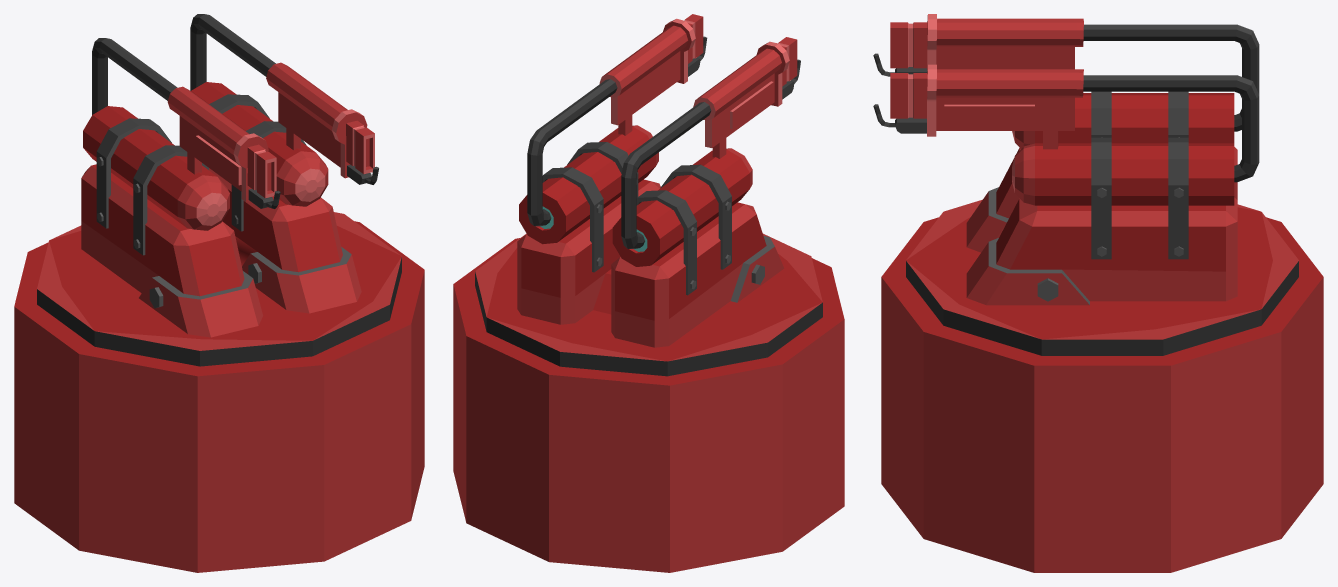
The model's file is Red Turret.fbx.
The picture shows the model from 3 angles, left to right: view 1: azimuth 30°, elevation 25°; view 2: azimuth 150°, elevation 25°; view 3: azimuth 270°, elevation 25°; orthographic projection. The views are drawn at different scales.
Parts seen in each view (by area): view 1: tower_napalm_red_1.001, top_napalm_red_1.001; view 2: tower_napalm_red_1.001, top_napalm_red_1.001; view 3: tower_napalm_red_1.001, top_napalm_red_1.001.
Part boxes in pixels (x1,y1,x2,y2): tower_napalm_red_1.001: (14, 212, 424, 572); top_napalm_red_1.001: (81, 14, 378, 337); tower_napalm_red_1.001: (453, 233, 844, 572); top_napalm_red_1.001: (517, 14, 800, 347); tower_napalm_red_1.001: (881, 199, 1323, 572); top_napalm_red_1.001: (873, 14, 1259, 305).
Bounding box in the file's own units: 5.18 × 6.01 × 5.54.
Materials: 1 (1 with a texture image).
